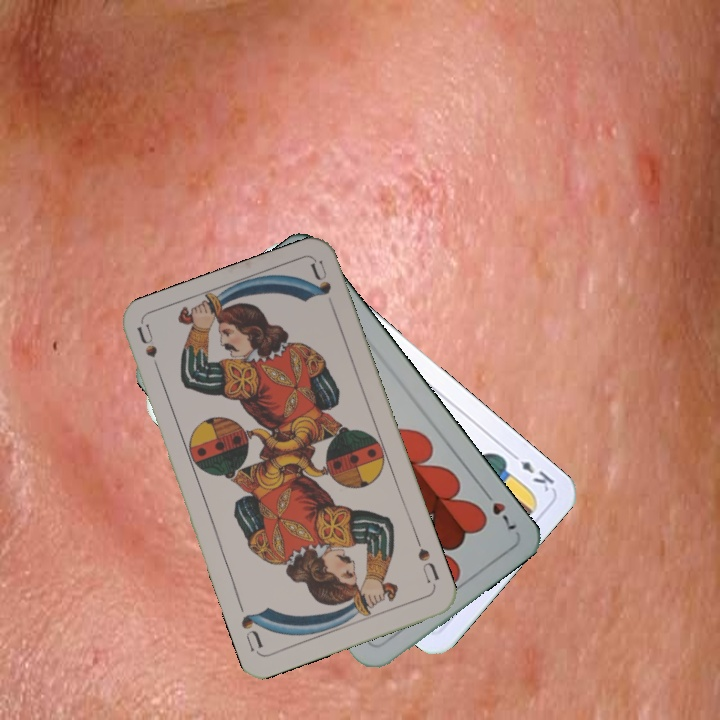EK: (506, 447, 558, 495)
H7: (479, 485, 519, 535)
SU: (133, 321, 165, 380), (411, 533, 442, 590)
